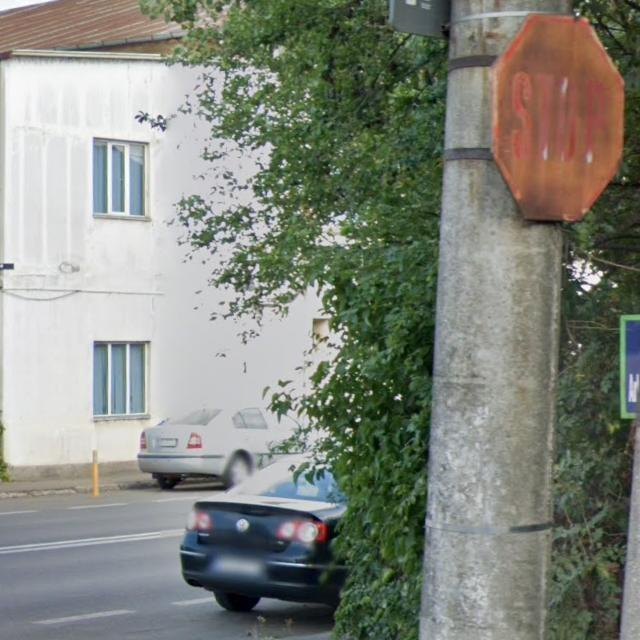prio_stop: (496, 14, 624, 222)
